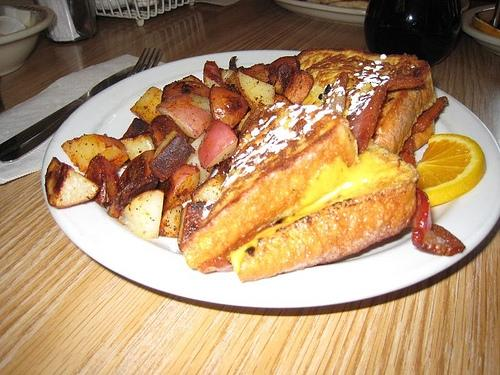orange: (416, 133, 486, 208)
potato: (45, 156, 99, 209), (60, 134, 130, 174), (156, 92, 213, 138), (149, 130, 194, 184), (118, 190, 164, 240), (108, 173, 158, 218), (84, 153, 122, 209), (198, 120, 236, 168), (210, 84, 250, 129), (163, 164, 200, 210), (234, 71, 274, 109), (161, 74, 210, 102), (129, 86, 163, 124), (150, 115, 189, 147), (282, 70, 314, 104), (190, 173, 227, 202), (119, 132, 154, 161), (159, 204, 183, 238), (268, 64, 291, 94), (204, 60, 228, 88), (241, 63, 271, 83), (220, 70, 238, 88)
